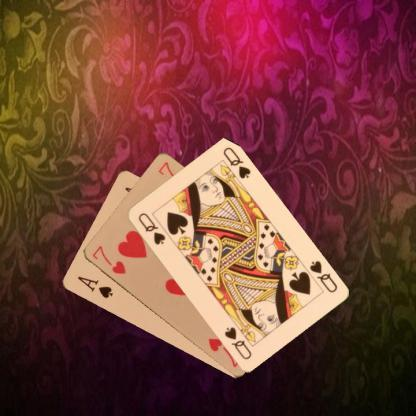7h: (89, 242, 127, 276)
As: (74, 273, 114, 300)
Qs: (306, 258, 339, 294), (136, 210, 166, 246)
